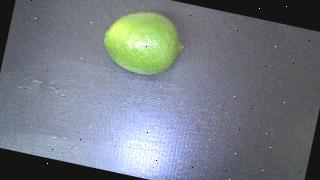EXPORTACION: (99, 4, 189, 82)
